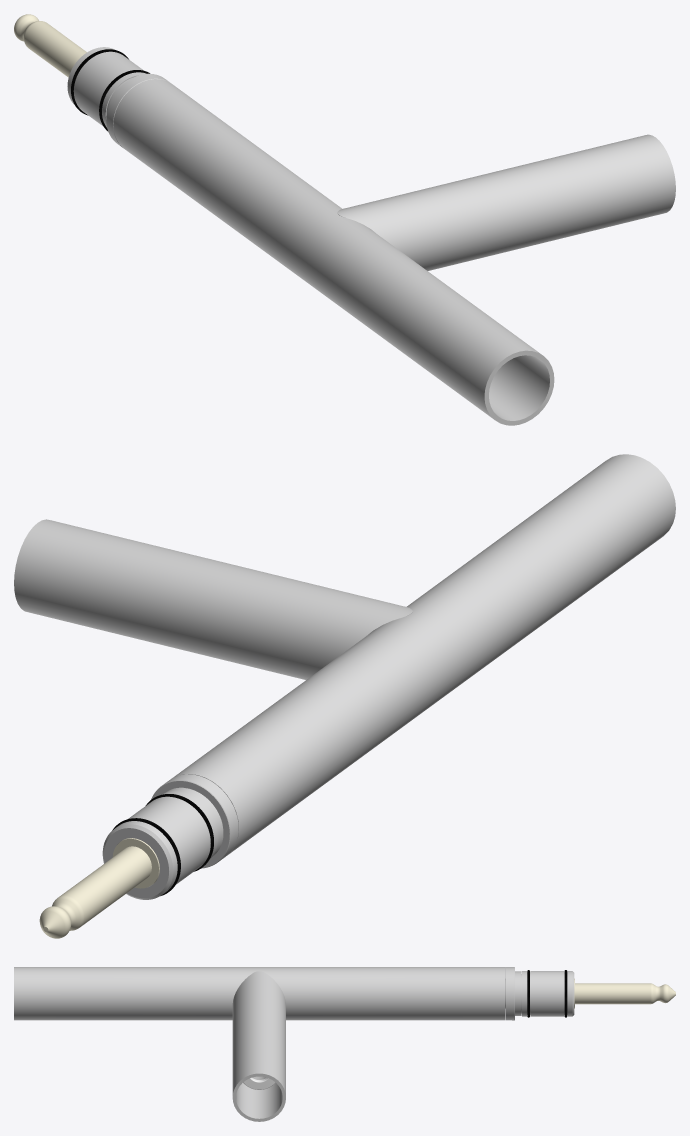
File: TJoint(female).glb
3 renders of one model, top to bottom at view 1: azimuth 30°, elevation 25°; view 2: azimuth 150°, elevation 25°; view 3: azimuth 270°, elevation 25°, orthographic. The views are drawn at different scales.
Visible parts, largest first — view 1: Body1.015; view 2: Body1.015; view 3: Body1.015.
Boxes of the visible parts, <box> form: Body1.015: <box>14,14,675,425</box>; Body1.015: <box>14,454,675,938</box>; Body1.015: <box>14,967,675,1121</box>.
Bounding box in the file's own units: 0.8159 × 0.1601 × 1.98.
